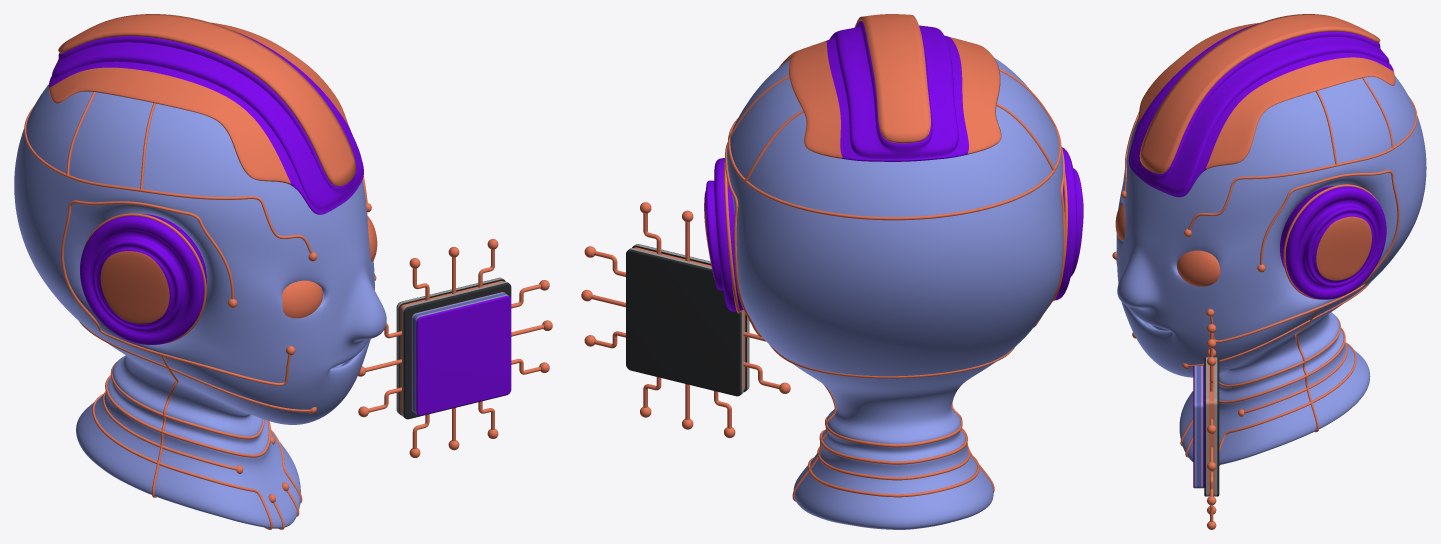
The model's file is machine-learning-3d-animated-icon-1270256208414.glb.
The picture shows the model from 3 angles, left to right: view 1: azimuth 30°, elevation 25°; view 2: azimuth 150°, elevation 25°; view 3: azimuth 270°, elevation 25°; orthographic projection. The views are drawn at different scales.
Parts seen in each view (by area): view 1: Cube.032, Cube.002, Cube.013, Cube.014, Cube.008, Cube, NurbsPath.003, Sphere; view 2: Cube.032, Cube.002, Cube, Cube.008, Cube.014, NurbsPath.003; view 3: Cube.032, Cube.002, Cube.014, Cube.008, Cube, Sphere, Cube.013, NurbsPath.003.
Part boxes in pixels (bbox=[...]): Cube.032: bbox=[14, 84, 386, 528]; Cube.002: bbox=[49, 22, 363, 214]; Cube.013: bbox=[411, 292, 511, 415]; Cube.014: bbox=[58, 14, 356, 186]; Cube.008: bbox=[24, 92, 376, 529]; Cube: bbox=[396, 277, 511, 419]; NurbsPath.003: bbox=[358, 239, 552, 457]; Sphere: bbox=[282, 216, 377, 318]; Cube.032: bbox=[704, 58, 1083, 529]; Cube.002: bbox=[779, 20, 1001, 161]; Cube: bbox=[626, 244, 749, 396]; Cube.008: bbox=[724, 68, 1067, 501]; Cube.014: bbox=[854, 14, 930, 143]; NurbsPath.003: bbox=[581, 202, 790, 438]; Cube.032: bbox=[1116, 76, 1426, 464]; Cube.002: bbox=[1128, 23, 1395, 197]; Cube.014: bbox=[1139, 14, 1380, 173]; Cube.008: bbox=[1112, 77, 1417, 465]; Cube: bbox=[1204, 357, 1219, 496]; Sphere: bbox=[1115, 202, 1220, 286]; Cube.013: bbox=[1193, 365, 1204, 488]; NurbsPath.003: bbox=[1207, 324, 1216, 529].
Size of what is drawn, in the model's own units: 0.4615 by 0.4407 by 0.3043.
